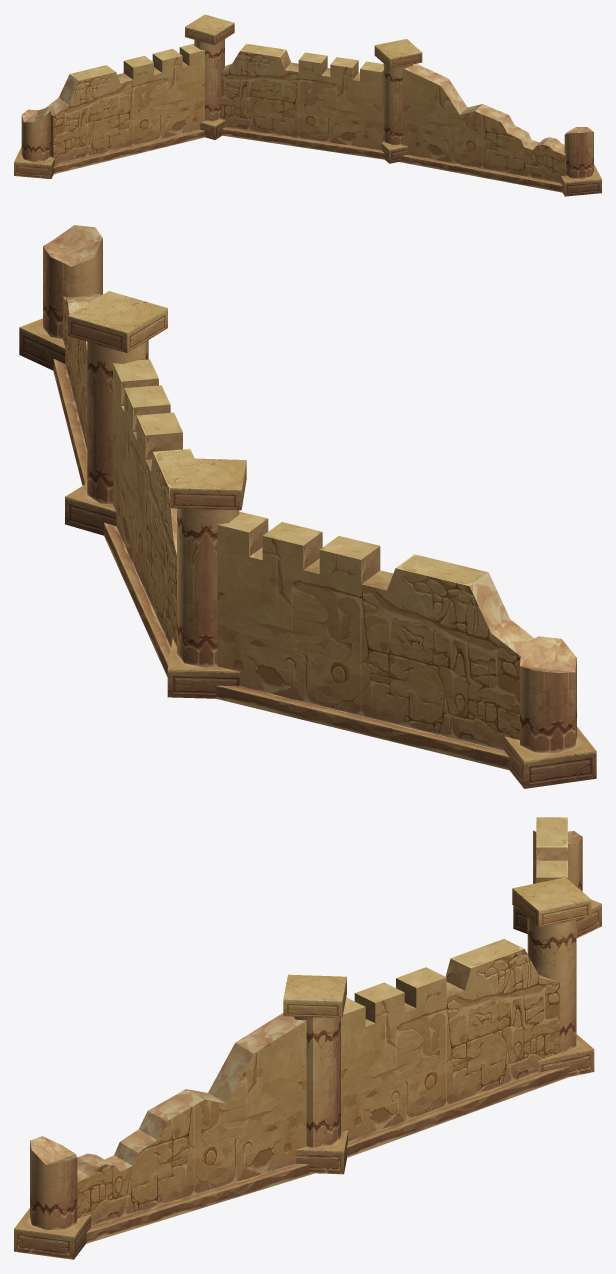
Rendered from Area_10_7.fbx.
3 views of the same model, one above another, from view 1: azimuth 30°, elevation 25°; view 2: azimuth 150°, elevation 25°; view 3: azimuth 270°, elevation 25° (orthographic). The views are drawn at different scales.
Visible parts, largest first — view 1: Area_10_7; view 2: Area_10_7; view 3: Area_10_7.
Boxes of the visible parts, x1,y1,x2,y2 form: Area_10_7: (14, 14, 601, 196); Area_10_7: (19, 225, 596, 788); Area_10_7: (14, 817, 601, 1259).
Bounding box in the file's own units: 1787 × 414 × 1269.
